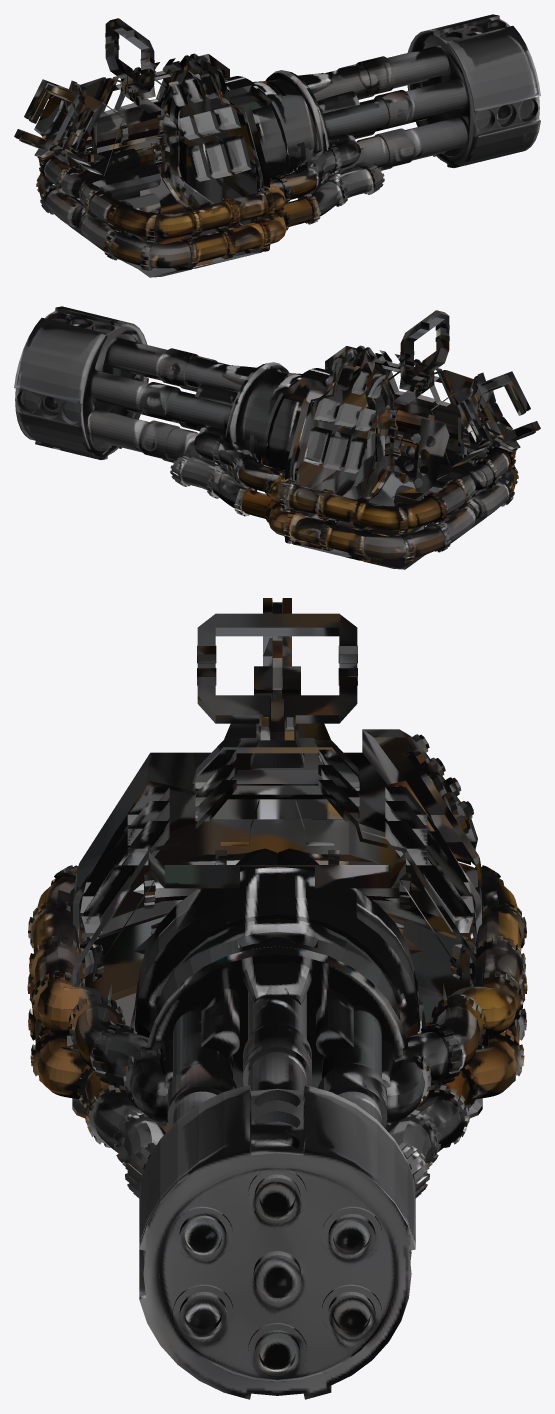
Rendered from embodiedgen.glb.
The picture shows the model from 3 angles, top to bottom: view 1: azimuth 30°, elevation 25°; view 2: azimuth 150°, elevation 25°; view 3: azimuth 270°, elevation 25°; orthographic projection. The views are drawn at different scales.
Visible parts, largest first — view 1: world; view 2: world; view 3: world.
Part boxes in pixels (box(x1,y1,x2,y2)): world: box(14, 14, 540, 277); world: box(14, 306, 540, 569); world: box(27, 598, 527, 1399).
Bounding box in the file's own units: 9.25 × 3.91 × 4.07.
1 material, 1 textured.
